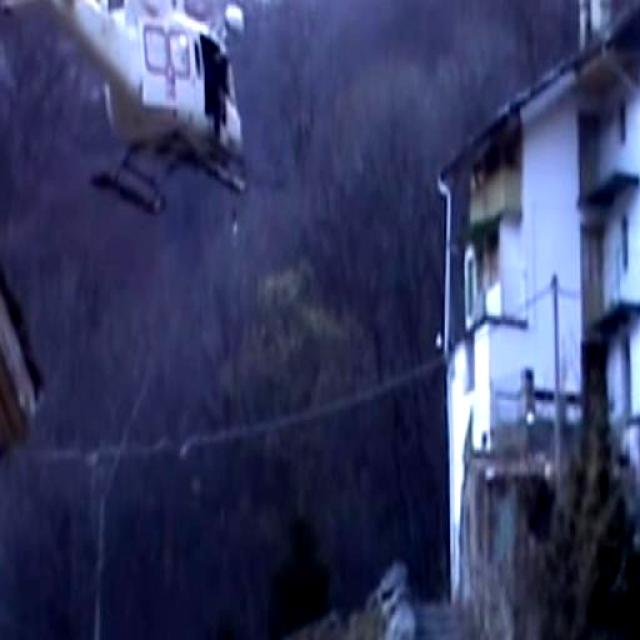drone: (0, 0, 256, 212)
